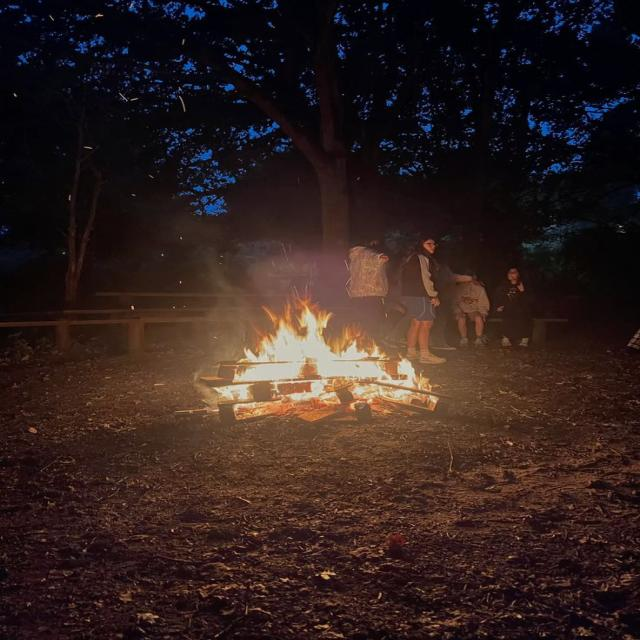fire: (234, 302, 387, 381)
